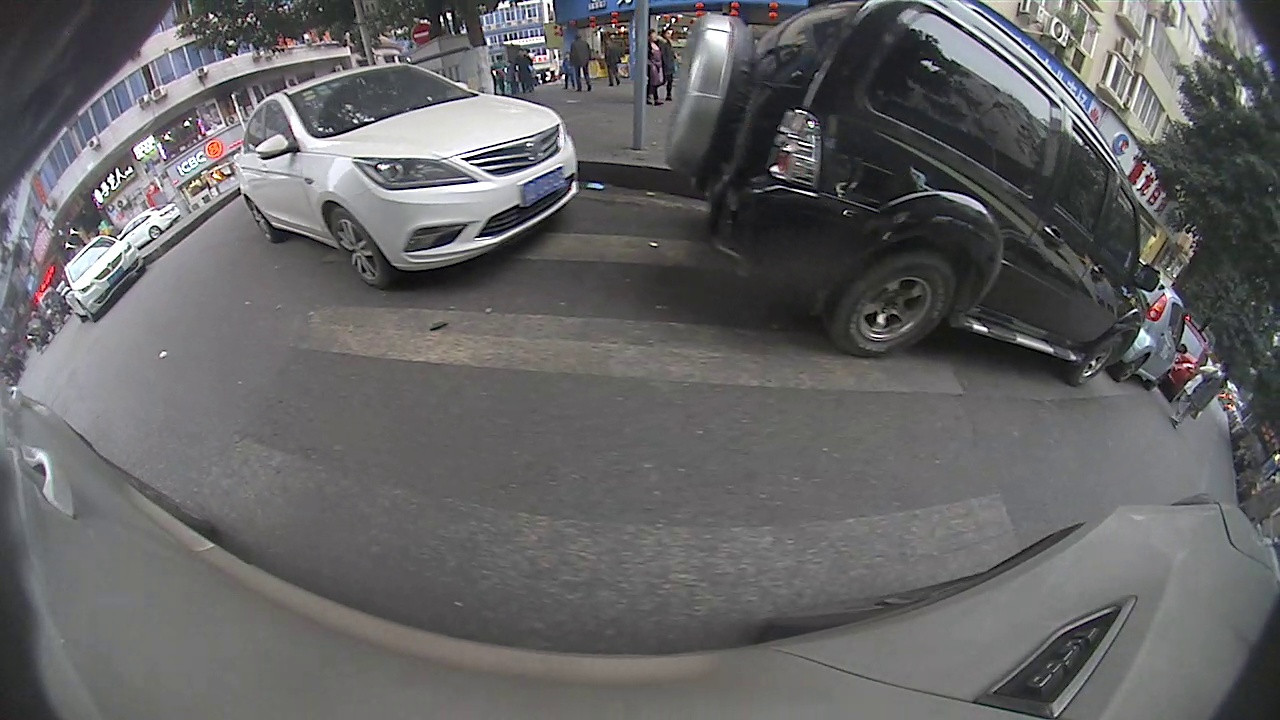car: (663, 1, 1159, 389), (231, 62, 579, 288), (59, 234, 146, 325), (1138, 271, 1186, 387), (114, 202, 180, 248)
front: (323, 202, 387, 289), (1069, 333, 1128, 386)
person: (1166, 354, 1228, 428)
rear: (834, 245, 963, 360), (242, 197, 275, 247), (1114, 355, 1152, 383), (149, 224, 162, 240)
